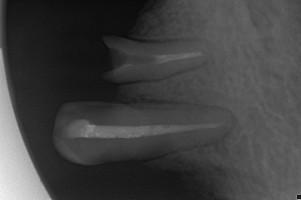Furcation Involvement: (191, 111, 241, 156)
